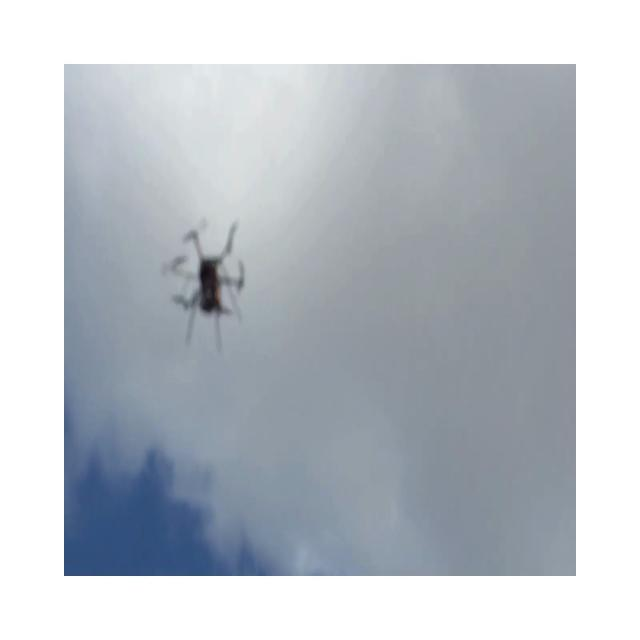drone: (161, 216, 245, 353)
